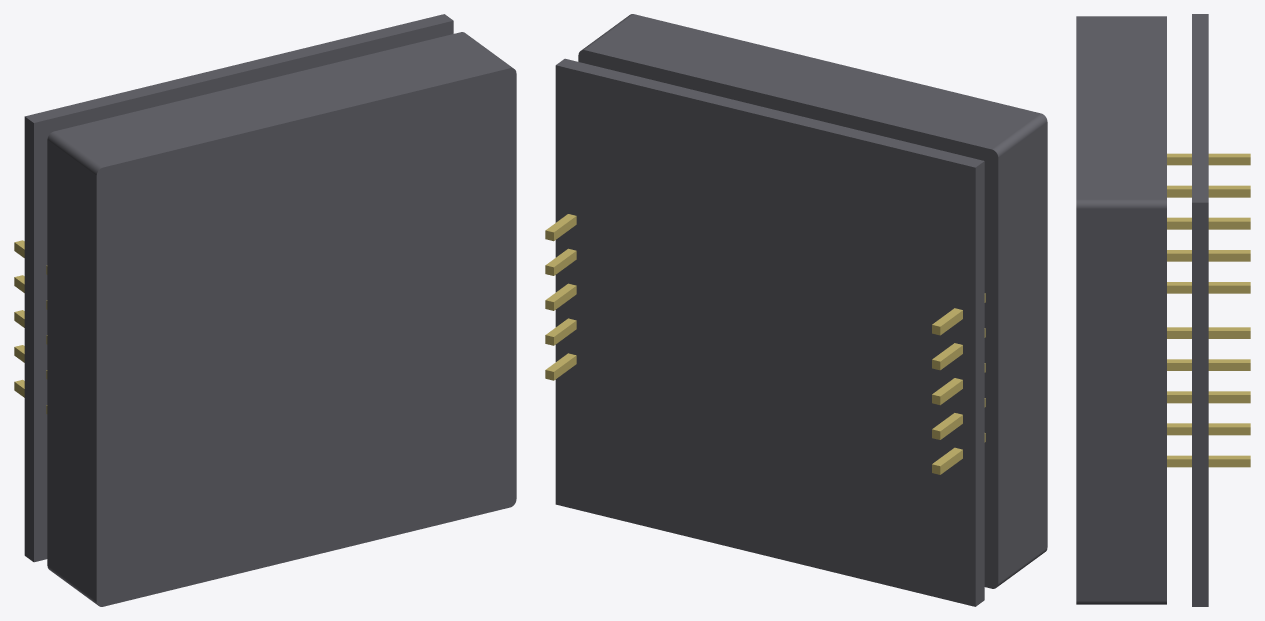
Rendered from max7219_matrix_module.glb.
3 views of the same model, side by side, from view 1: azimuth 30°, elevation 25°; view 2: azimuth 150°, elevation 25°; view 3: azimuth 270°, elevation 25° (orthographic). The views are drawn at different scales.
Visible parts, largest first — view 1: extra, pins; view 2: extra, pins; view 3: extra, pins.
Part boxes in pixels (x1=…): extra: x1=24, y1=14, x2=516, y2=606; pins: x1=14, y1=240, x2=47, y2=413; extra: x1=555, y1=14, x2=1047, y2=606; pins: x1=545, y1=214, x2=985, y2=474; extra: x1=1076, y1=14, x2=1208, y2=606; pins: x1=1167, y1=153, x2=1250, y2=467.
Bounding box in the file's own units: 32 × 32 × 12.5.
